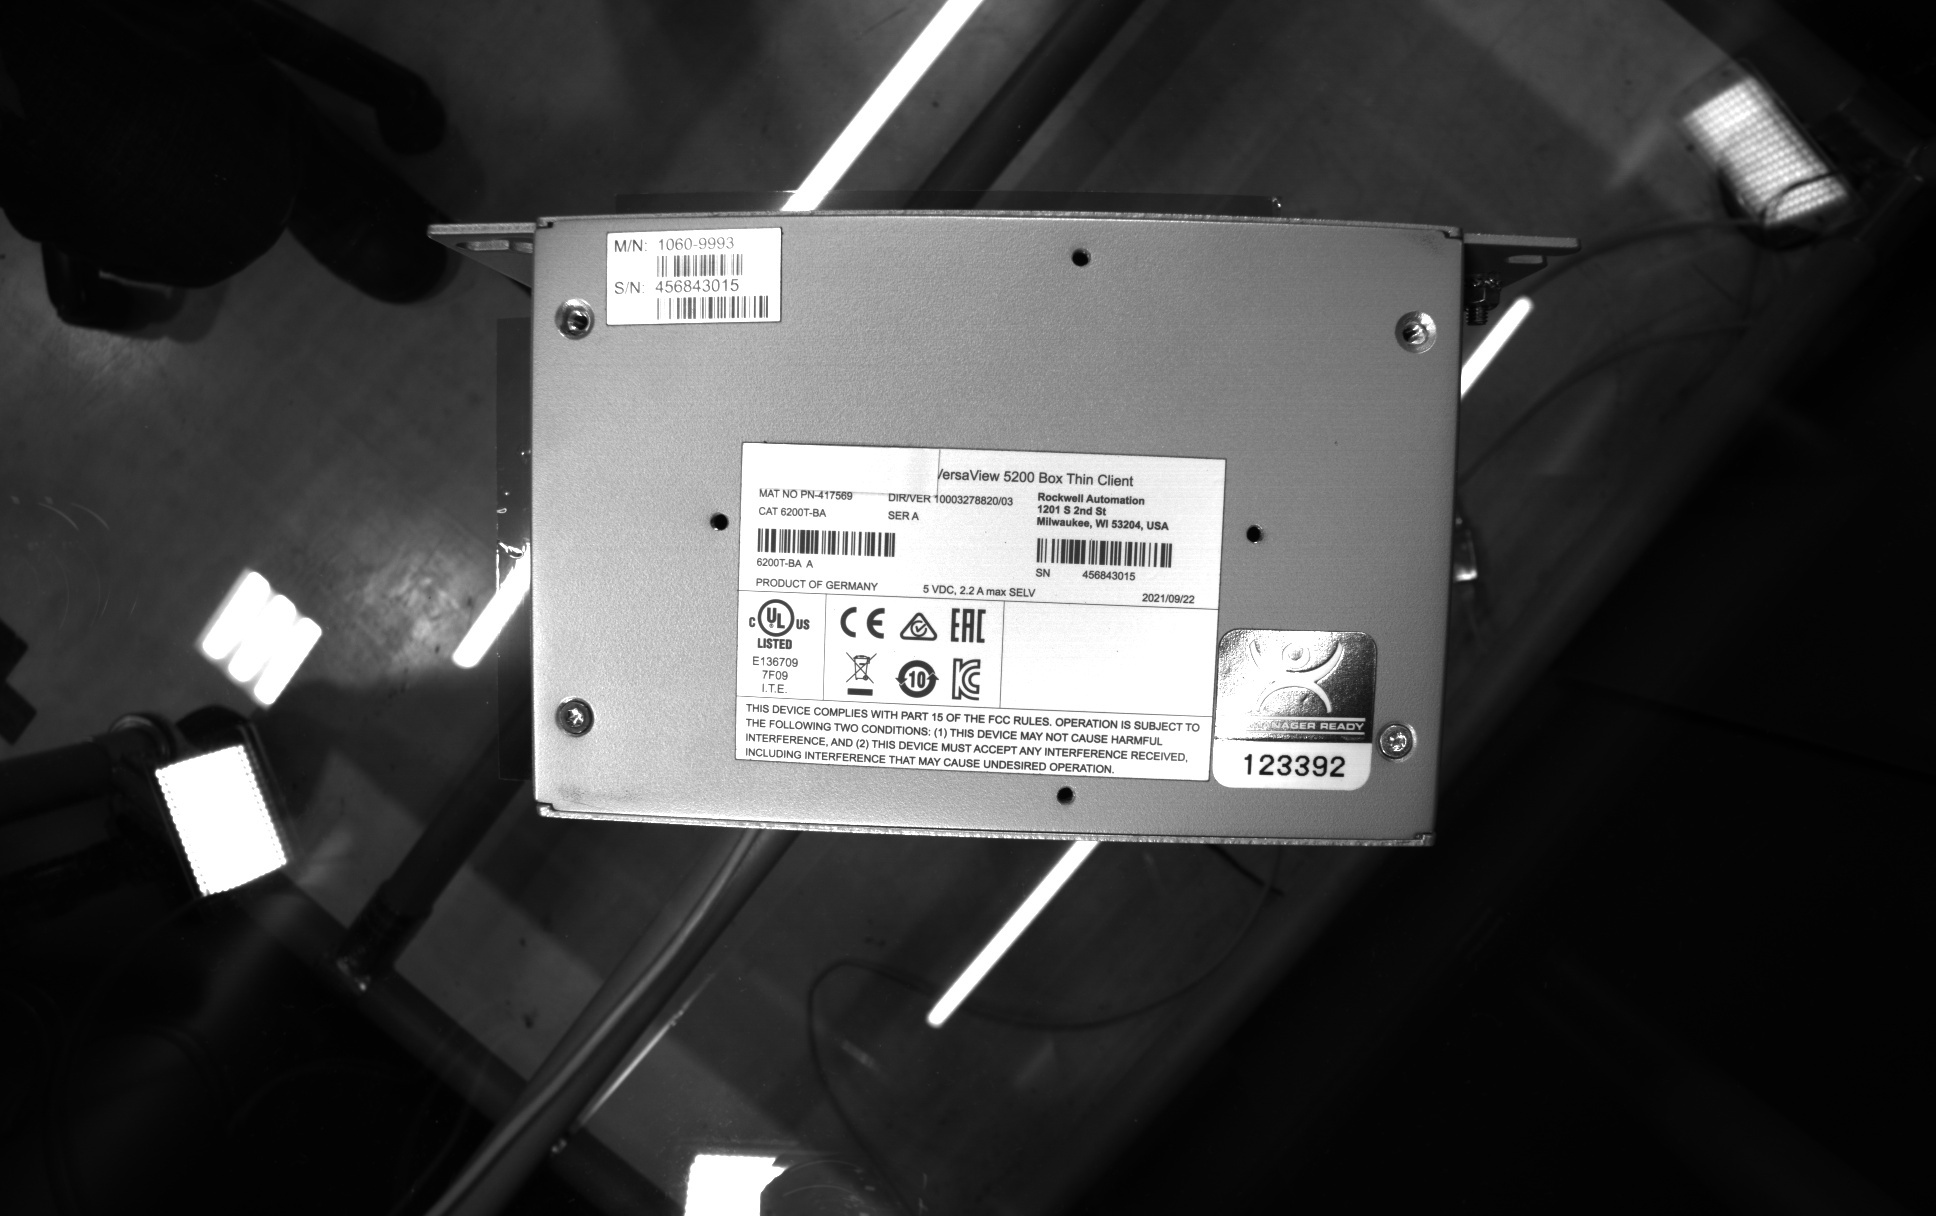Barcode: (747, 520, 904, 560), (1027, 534, 1177, 572), (658, 290, 777, 326), (649, 247, 751, 282)
CamTop: (506, 195, 1479, 870)
Label_Seriennummer: (720, 429, 1238, 792)
Loch: (1388, 307, 1446, 361), (551, 293, 600, 345)
Loch_Montage: (696, 496, 735, 544), (1044, 779, 1088, 818), (1238, 513, 1278, 555), (1060, 235, 1101, 275)
Schraube: (551, 691, 601, 747), (1373, 713, 1423, 768)
